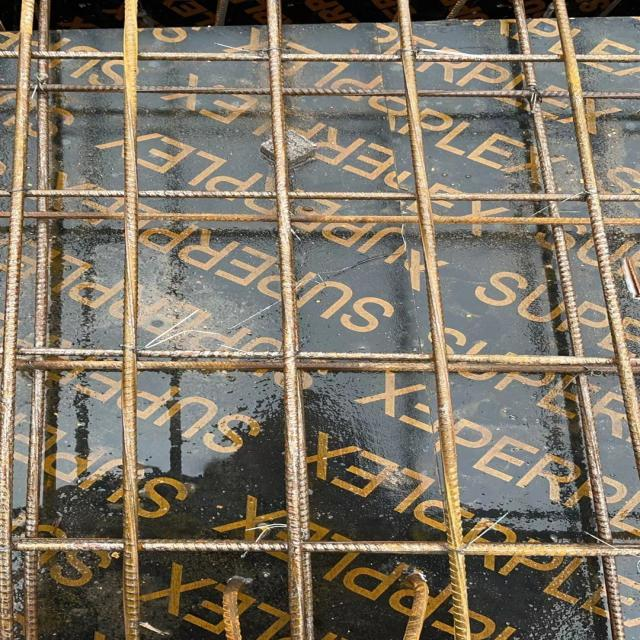ribbed bar: (510, 0, 626, 639), (393, 0, 475, 639), (553, 0, 639, 472), (264, 0, 313, 639), (0, 0, 33, 639), (24, 0, 51, 639), (0, 536, 639, 556), (0, 346, 639, 365), (0, 82, 639, 100), (122, 0, 139, 639), (0, 209, 639, 226), (0, 359, 639, 374), (0, 188, 639, 201), (0, 50, 639, 62), (398, 573, 433, 640), (222, 581, 247, 640)
